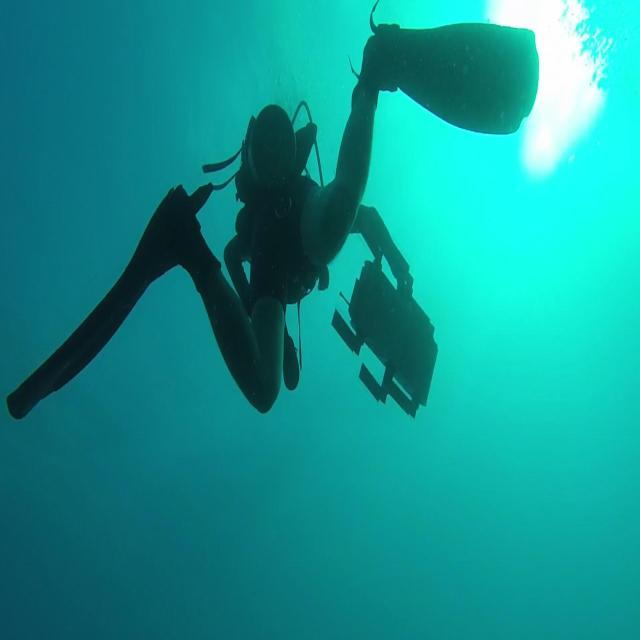human: (7, 6, 540, 422)
